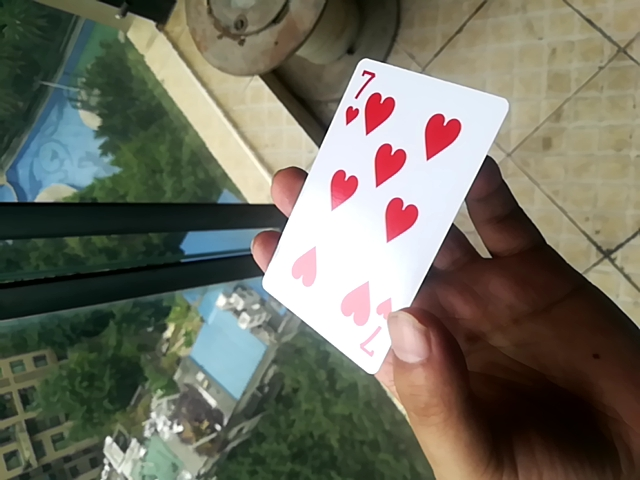hx 7: (259, 56, 509, 378)
